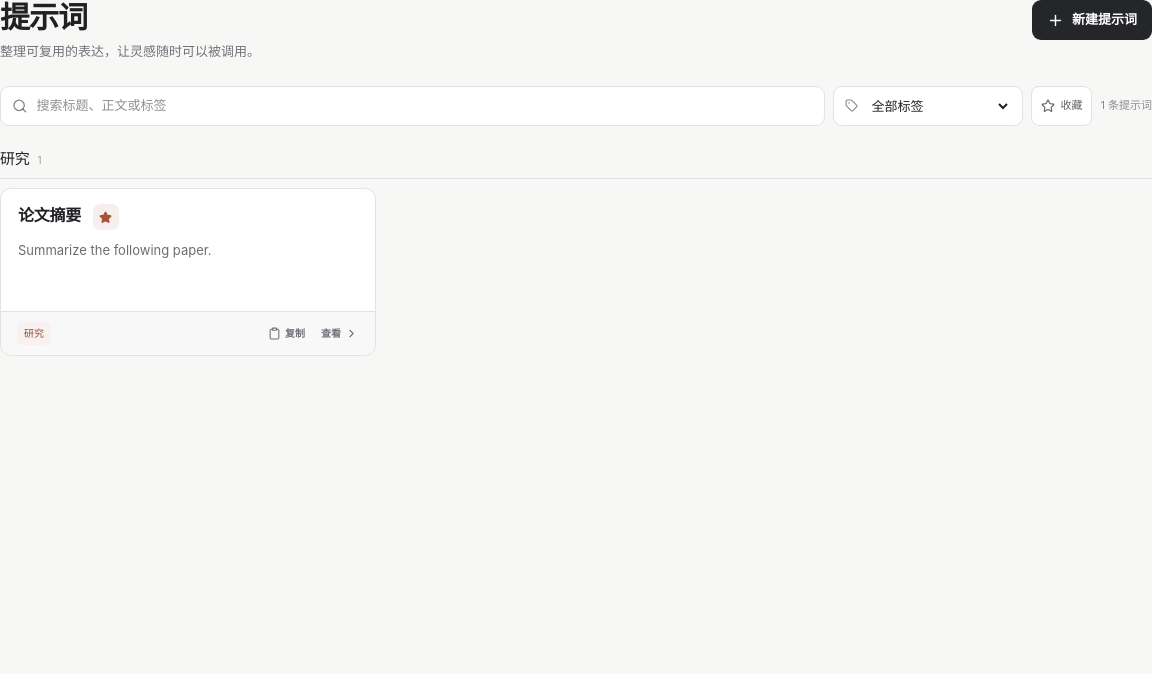
Test case: PromptsPage › filters and opens a saved prompt
This screenshot has width=1152, height=674.
Click the button with aria-label "查看 论文摘要": coordinates (188, 250) [1,189,375,311]
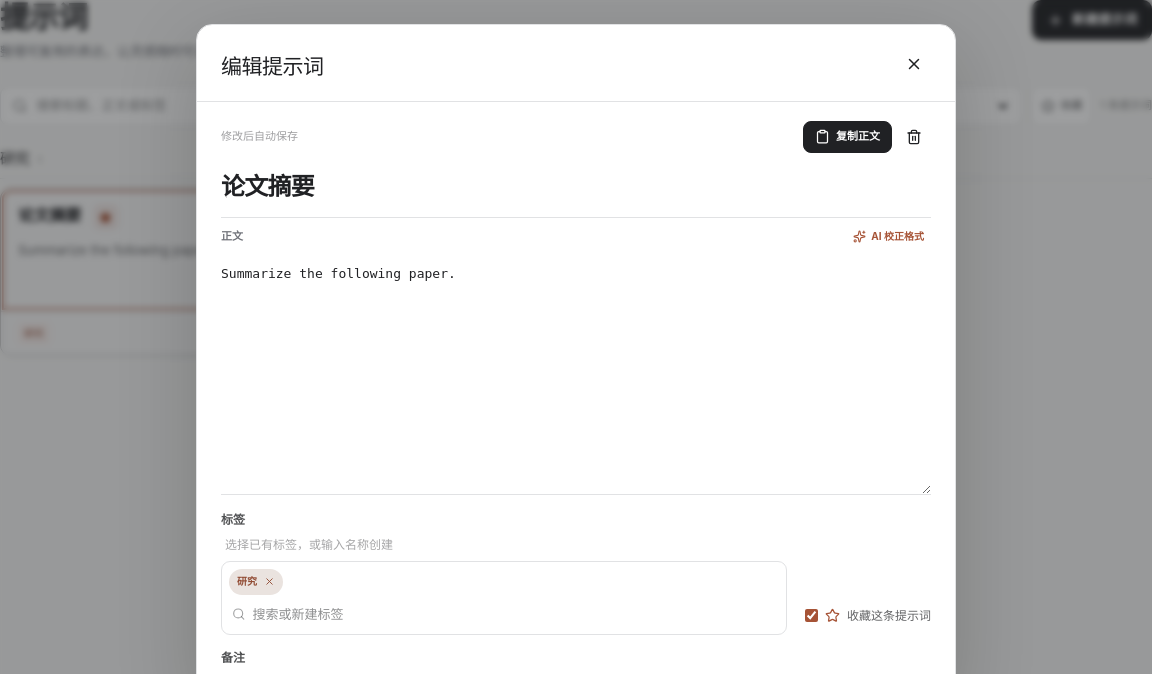
Expected: the text box named "提示词正文" holds "Summarize the following paper.", [221,254,931,494]
Click the button named "关闭": coordinates (914, 64) [897,47,931,81]
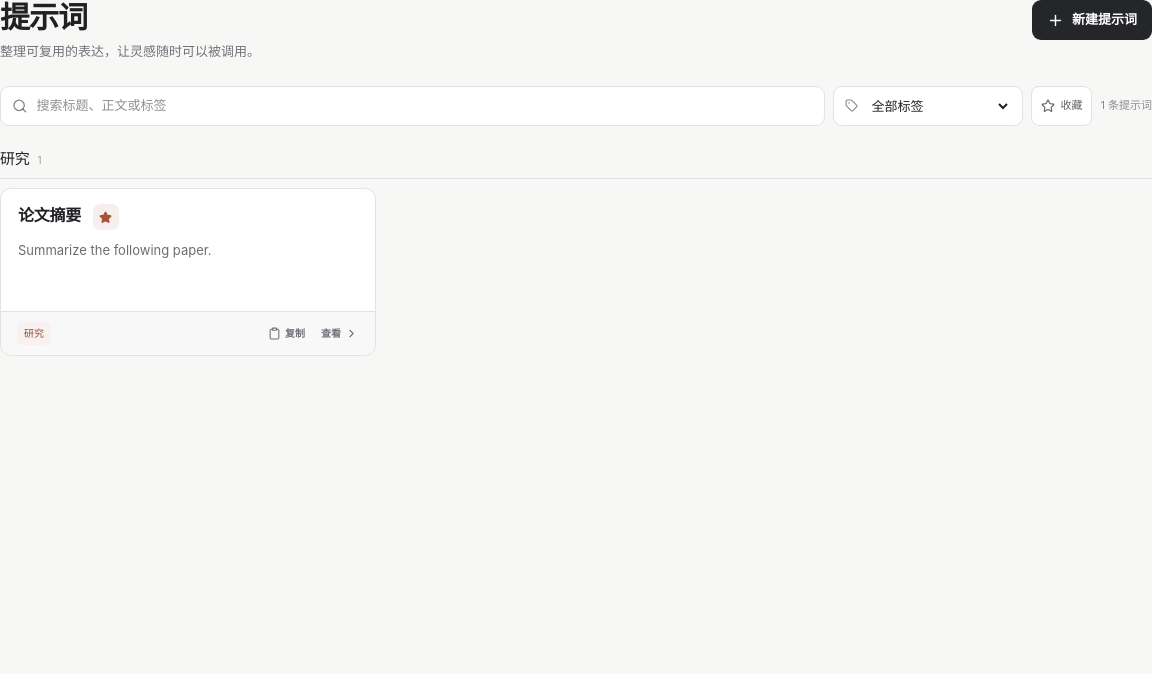
In the search field named "搜索提示词": coordinates (425, 106) [36,96,813,115], type "不存在"
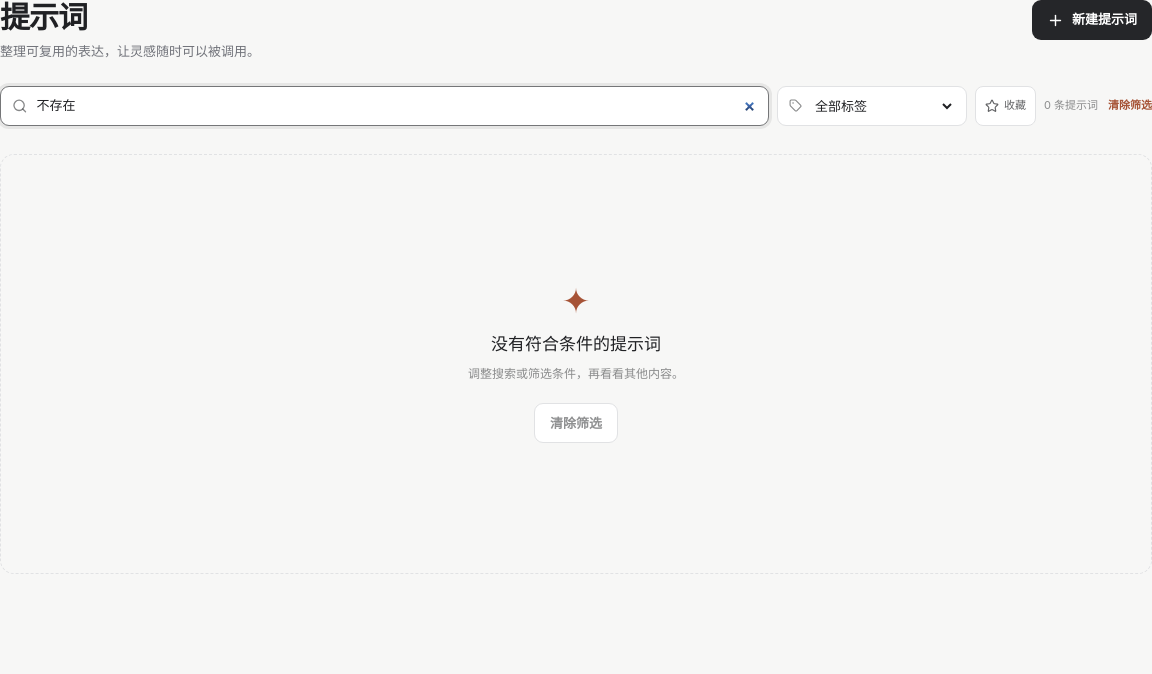
Expected: the heading "没有符合条件的提示词" is shown, [491,332,661,357]
